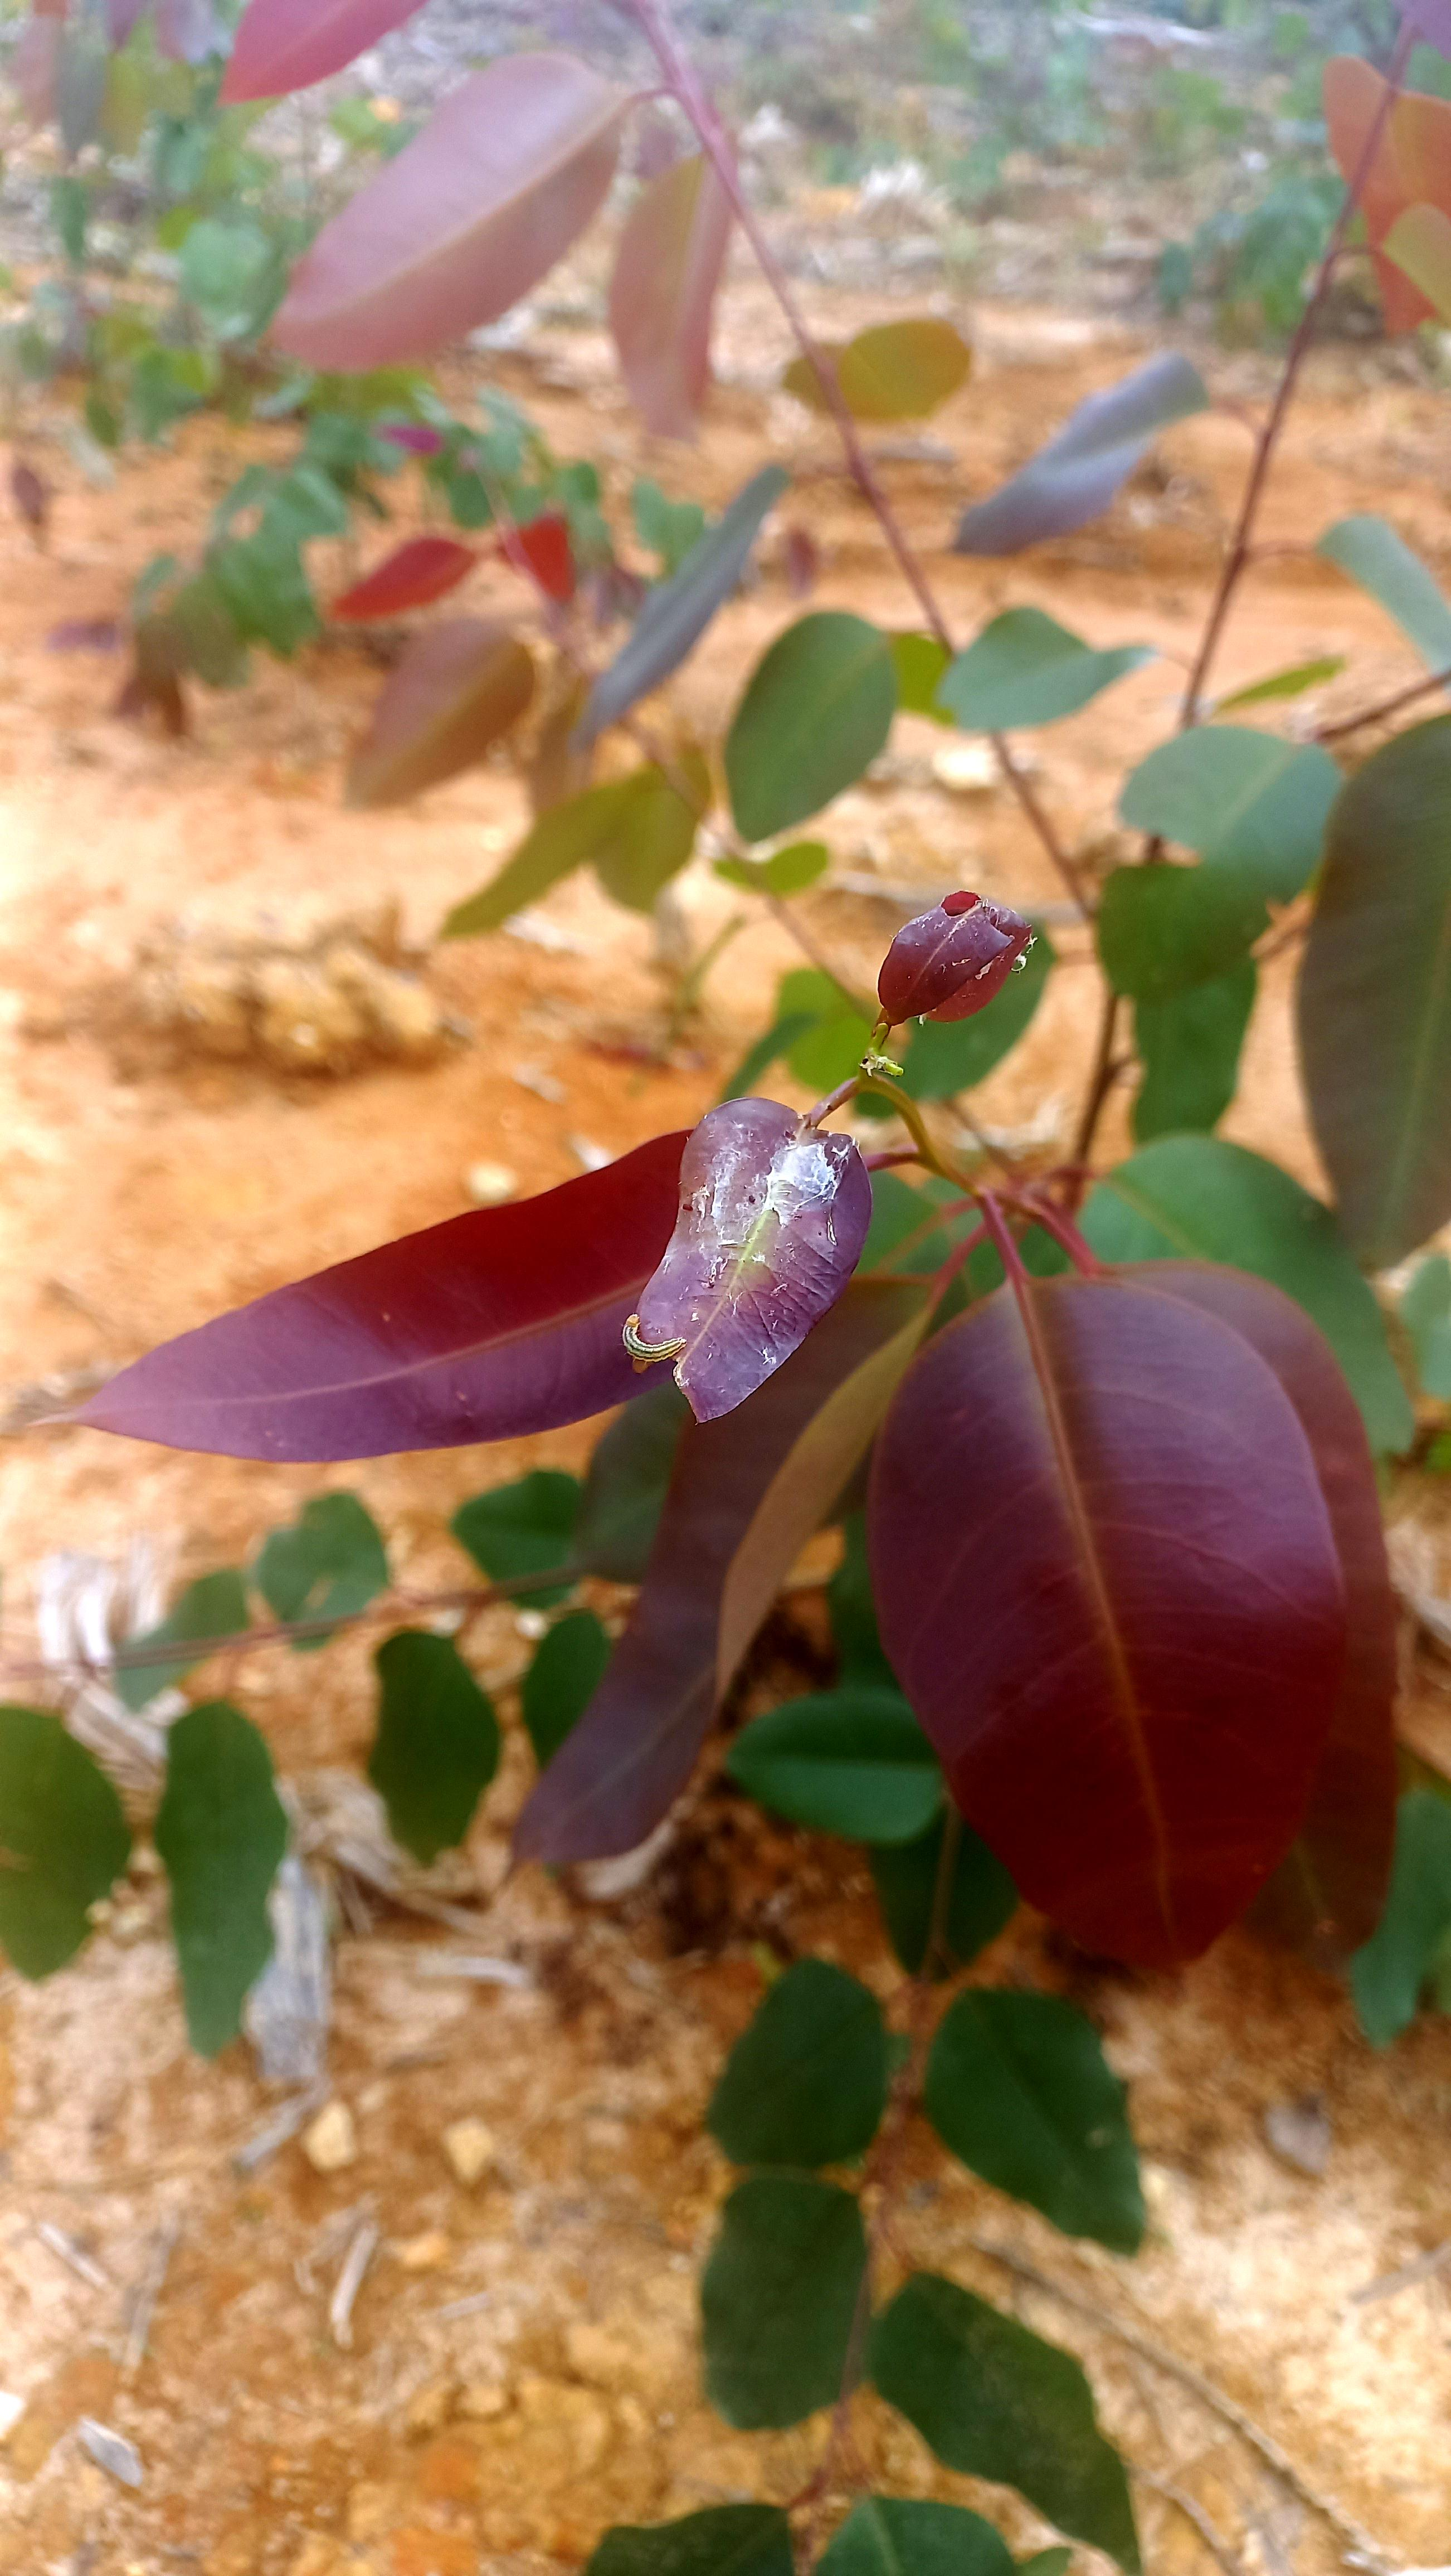Leaf Roller - Insect: (607, 1306, 697, 1362)
Leaf Roller - Leaf: (630, 1093, 858, 1426), (871, 892, 1026, 1047)
